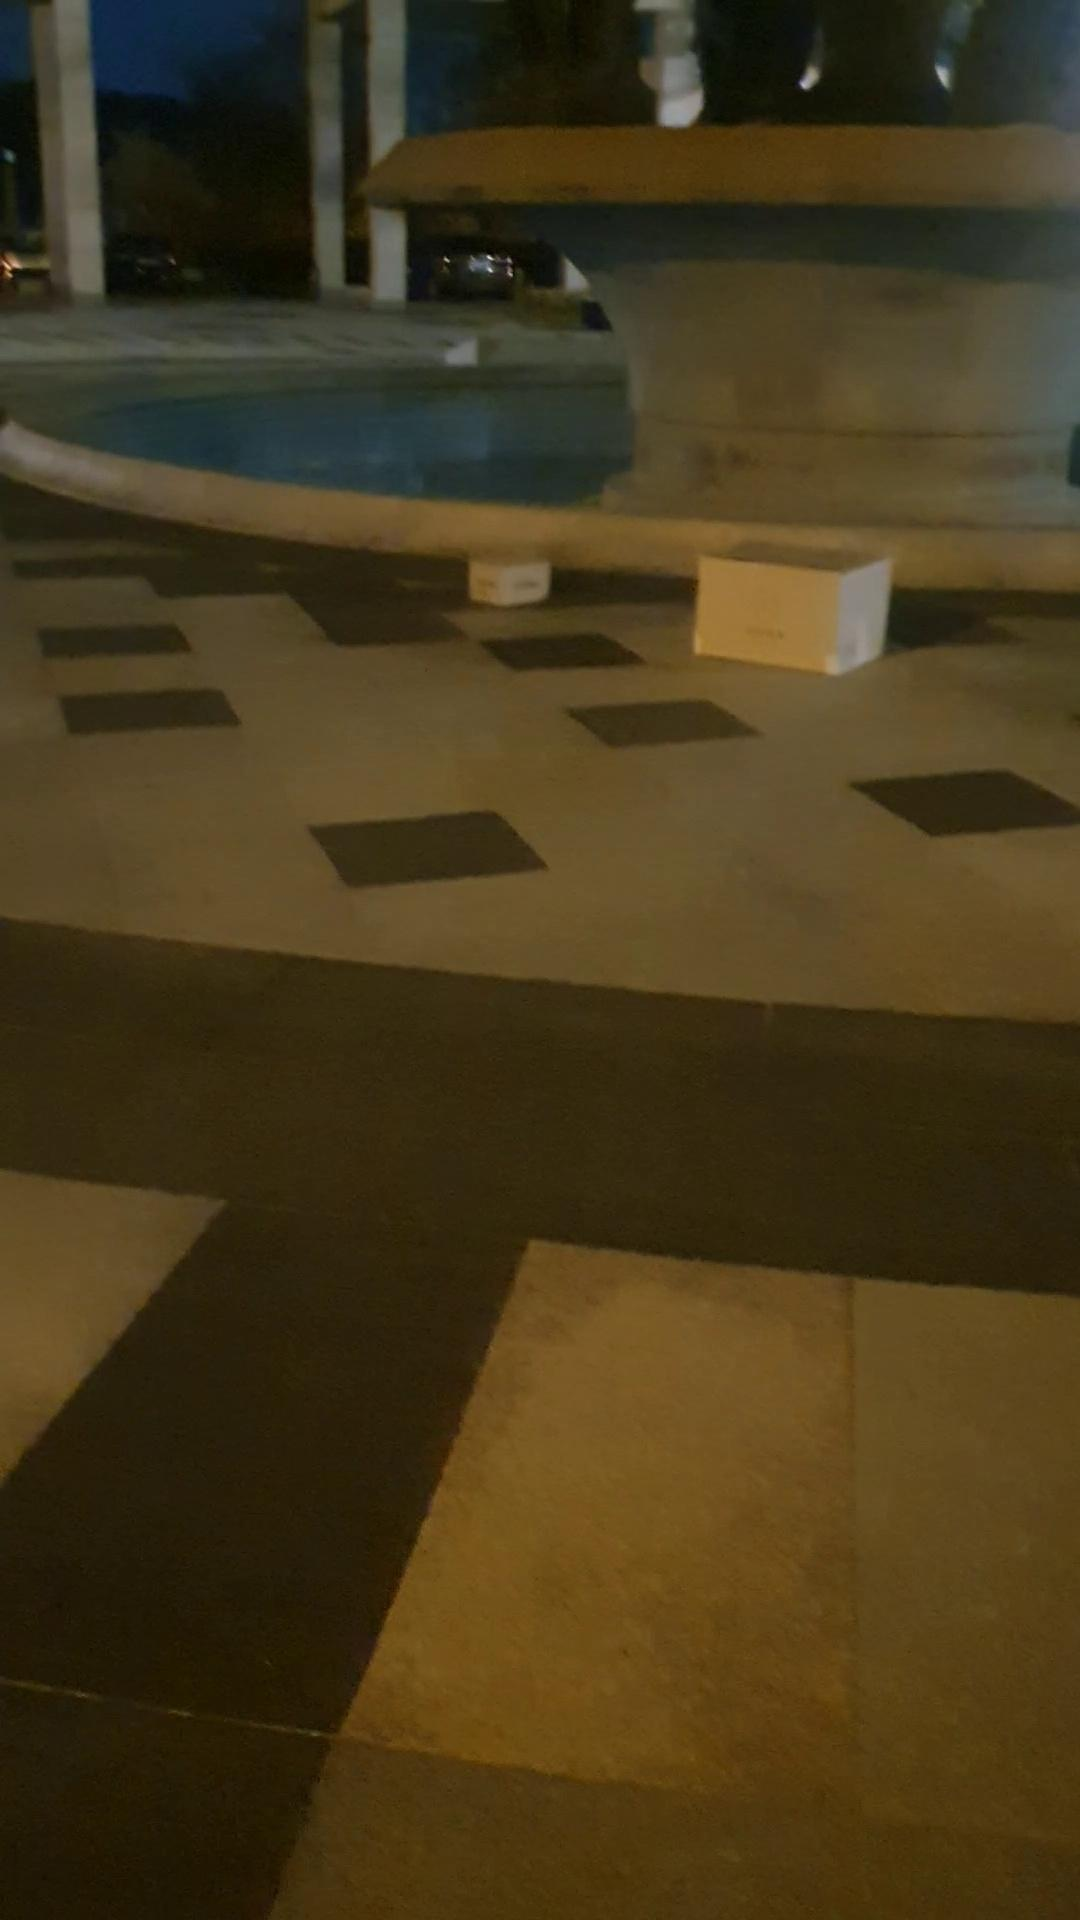Box: (691, 535, 905, 680), (454, 525, 567, 626)
